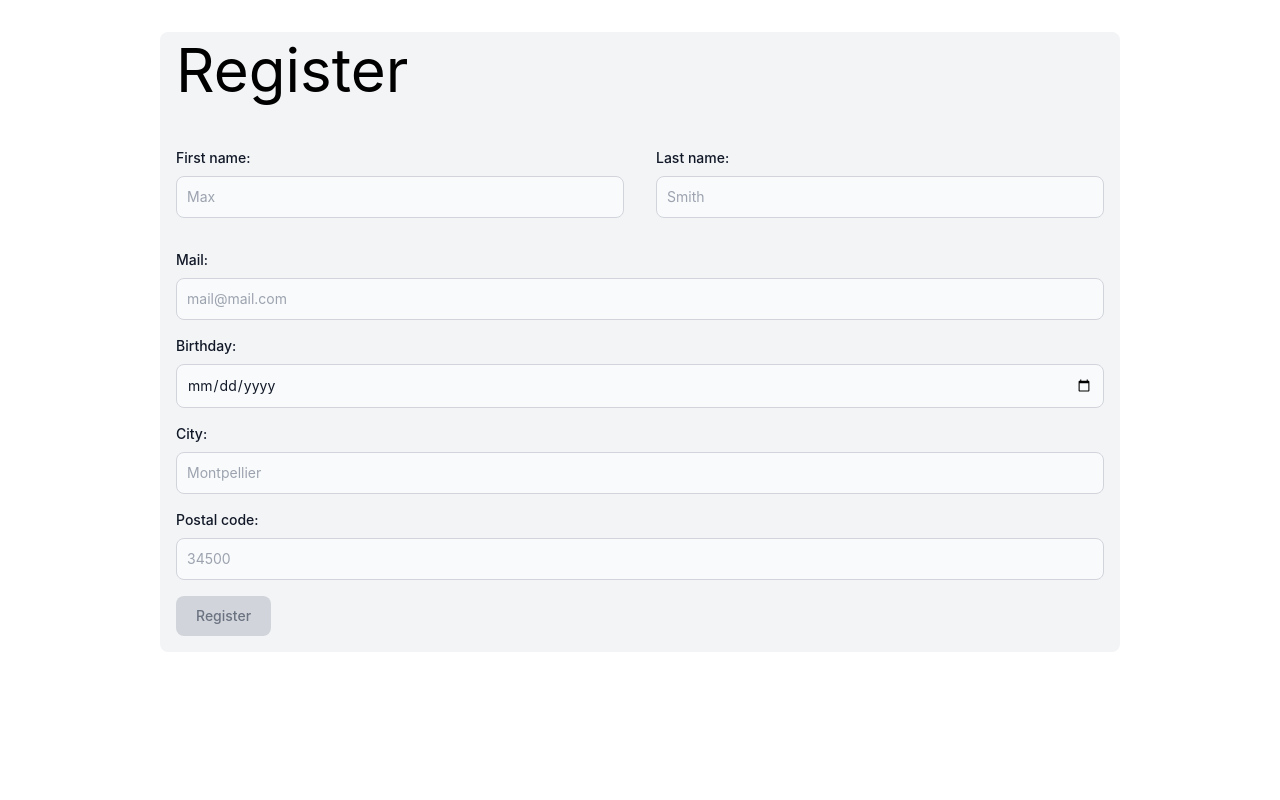
Scenario: the search function should manage the form submission › submits successfully when all inputs are valid
Type "John" into the field with placeholder "Max" at (400, 197), box 176,176 -> 624,218
Type "Doe" into the field with placeholder "Smith" at (880, 197), box 656,176 -> 1104,218
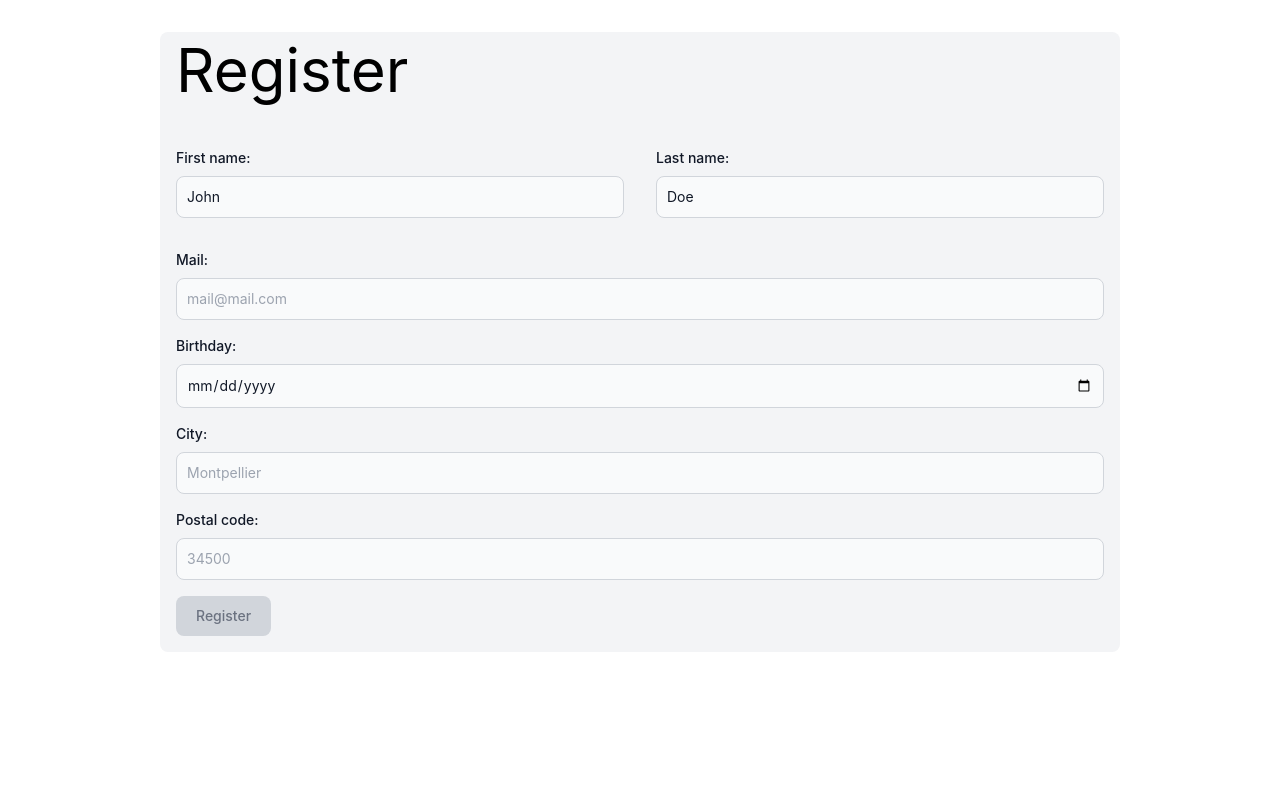
Type "john.doe@example.com" into the field with placeholder "mail@mail.com" at (640, 299), box 176,278 -> 1104,320
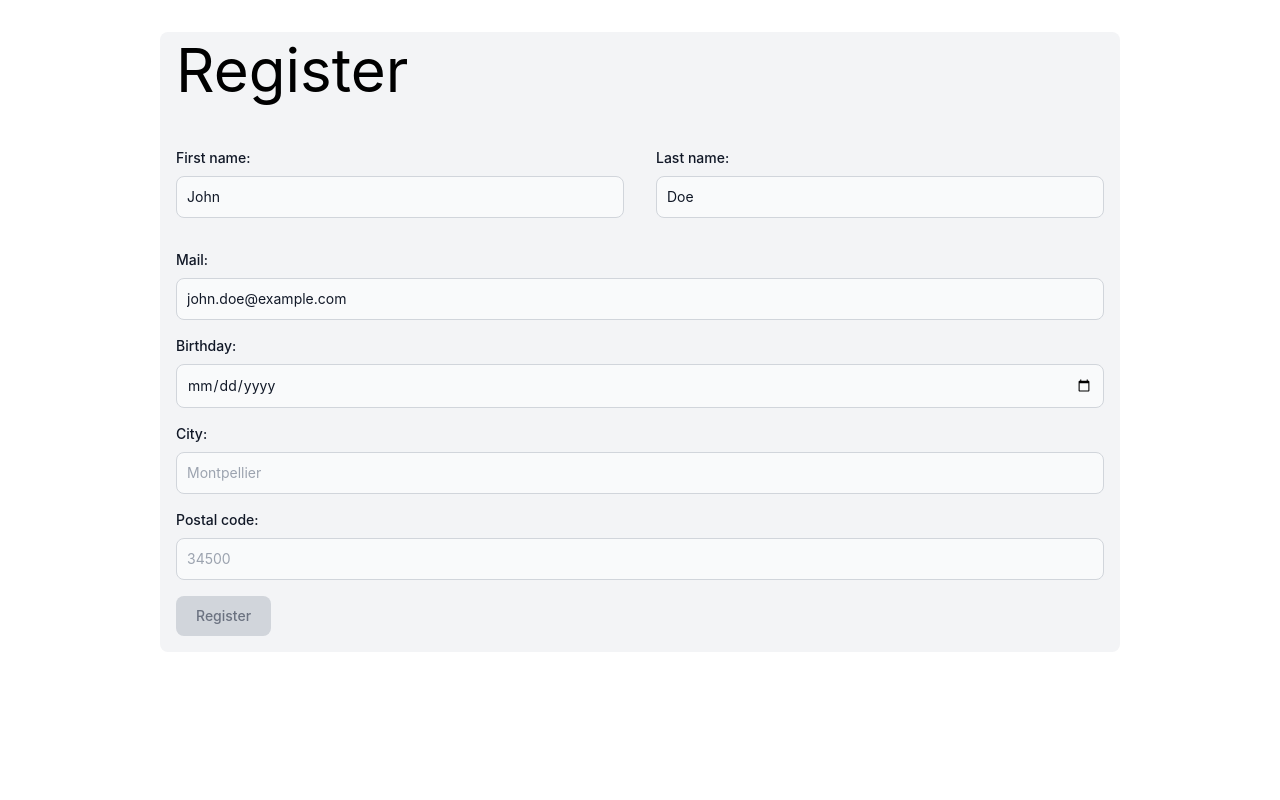
Type "Paris" into the field with placeholder "Montpellier" at (640, 473), box 176,452 -> 1104,494
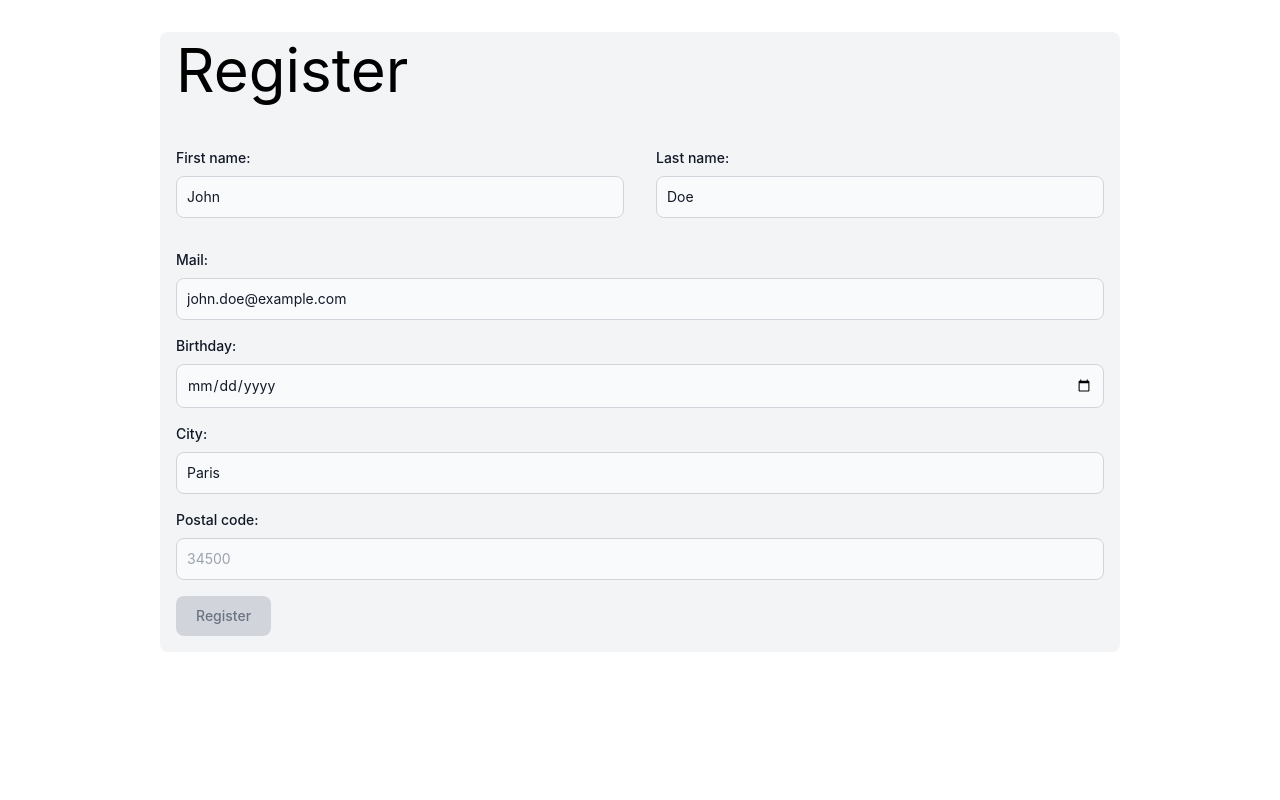
Type "75000" into the field with placeholder "34500" at (640, 559), box 176,538 -> 1104,580
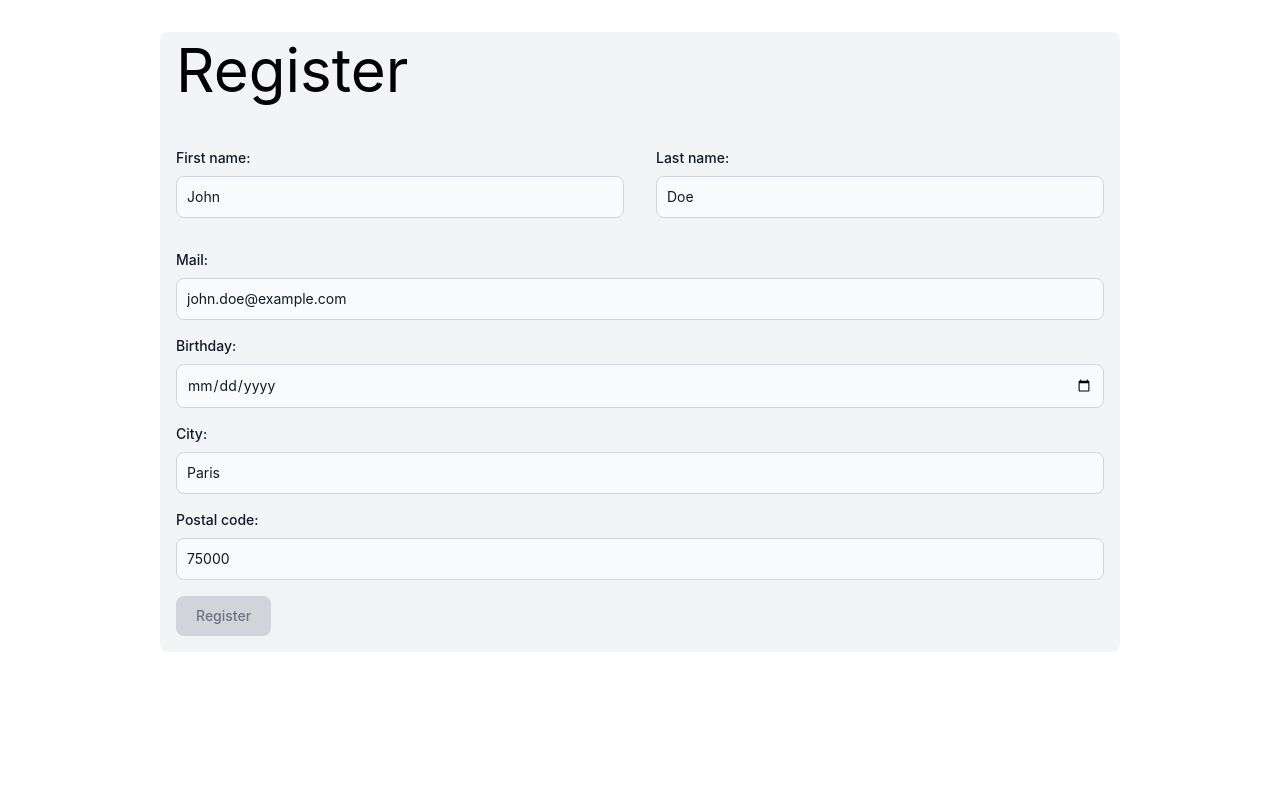
Type "2000-01-01" into the date field labelled "Birthday:" at (640, 386), box 176,364 -> 1104,408
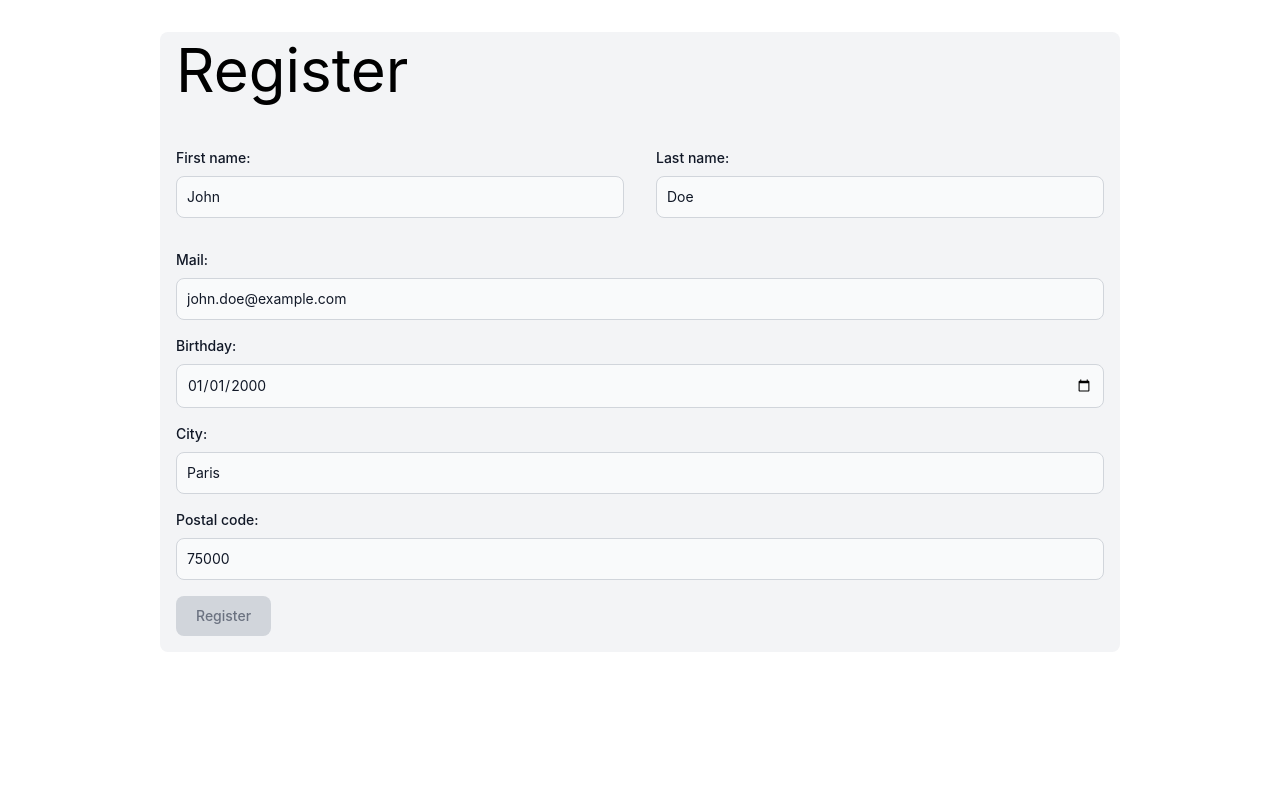
Submit the form with test id "registration-form", box 176,132 -> 1104,644
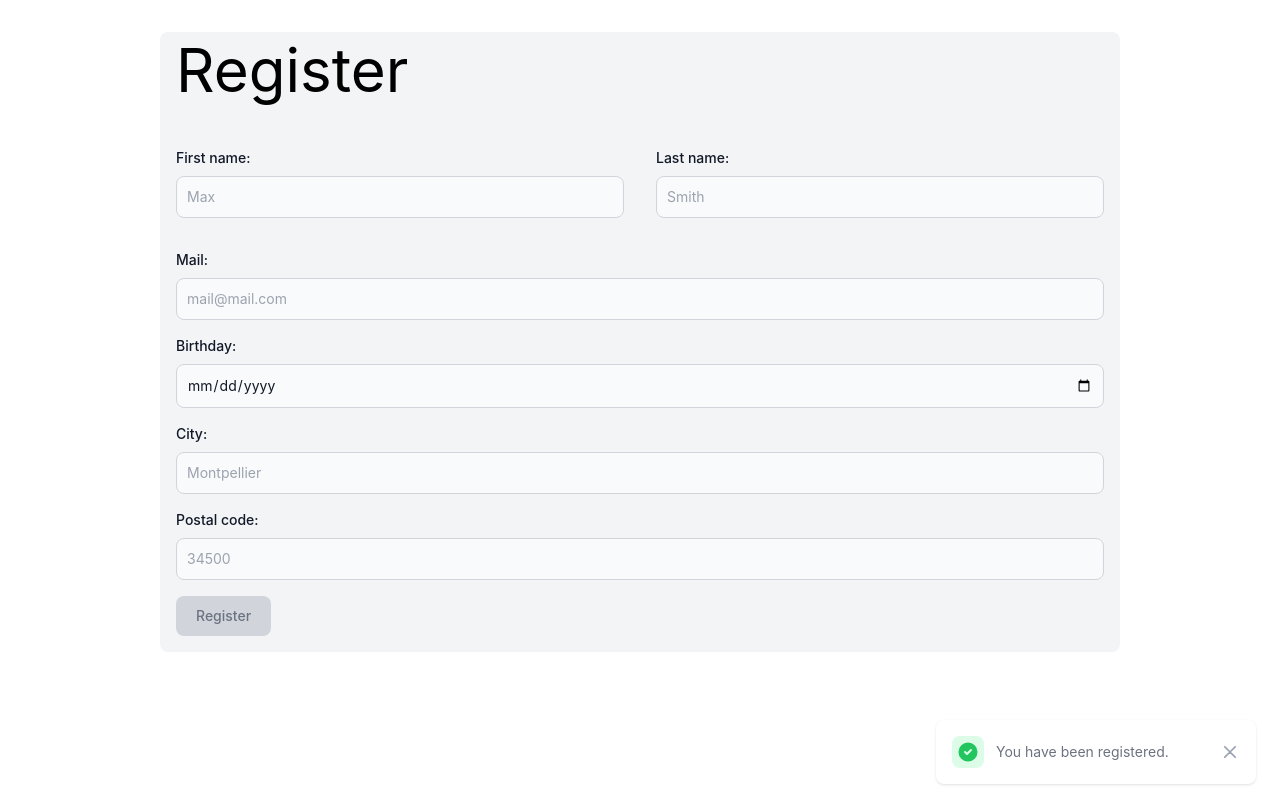
expect the text "You have been registered." is shown: met, box 996,742 -> 1169,762
